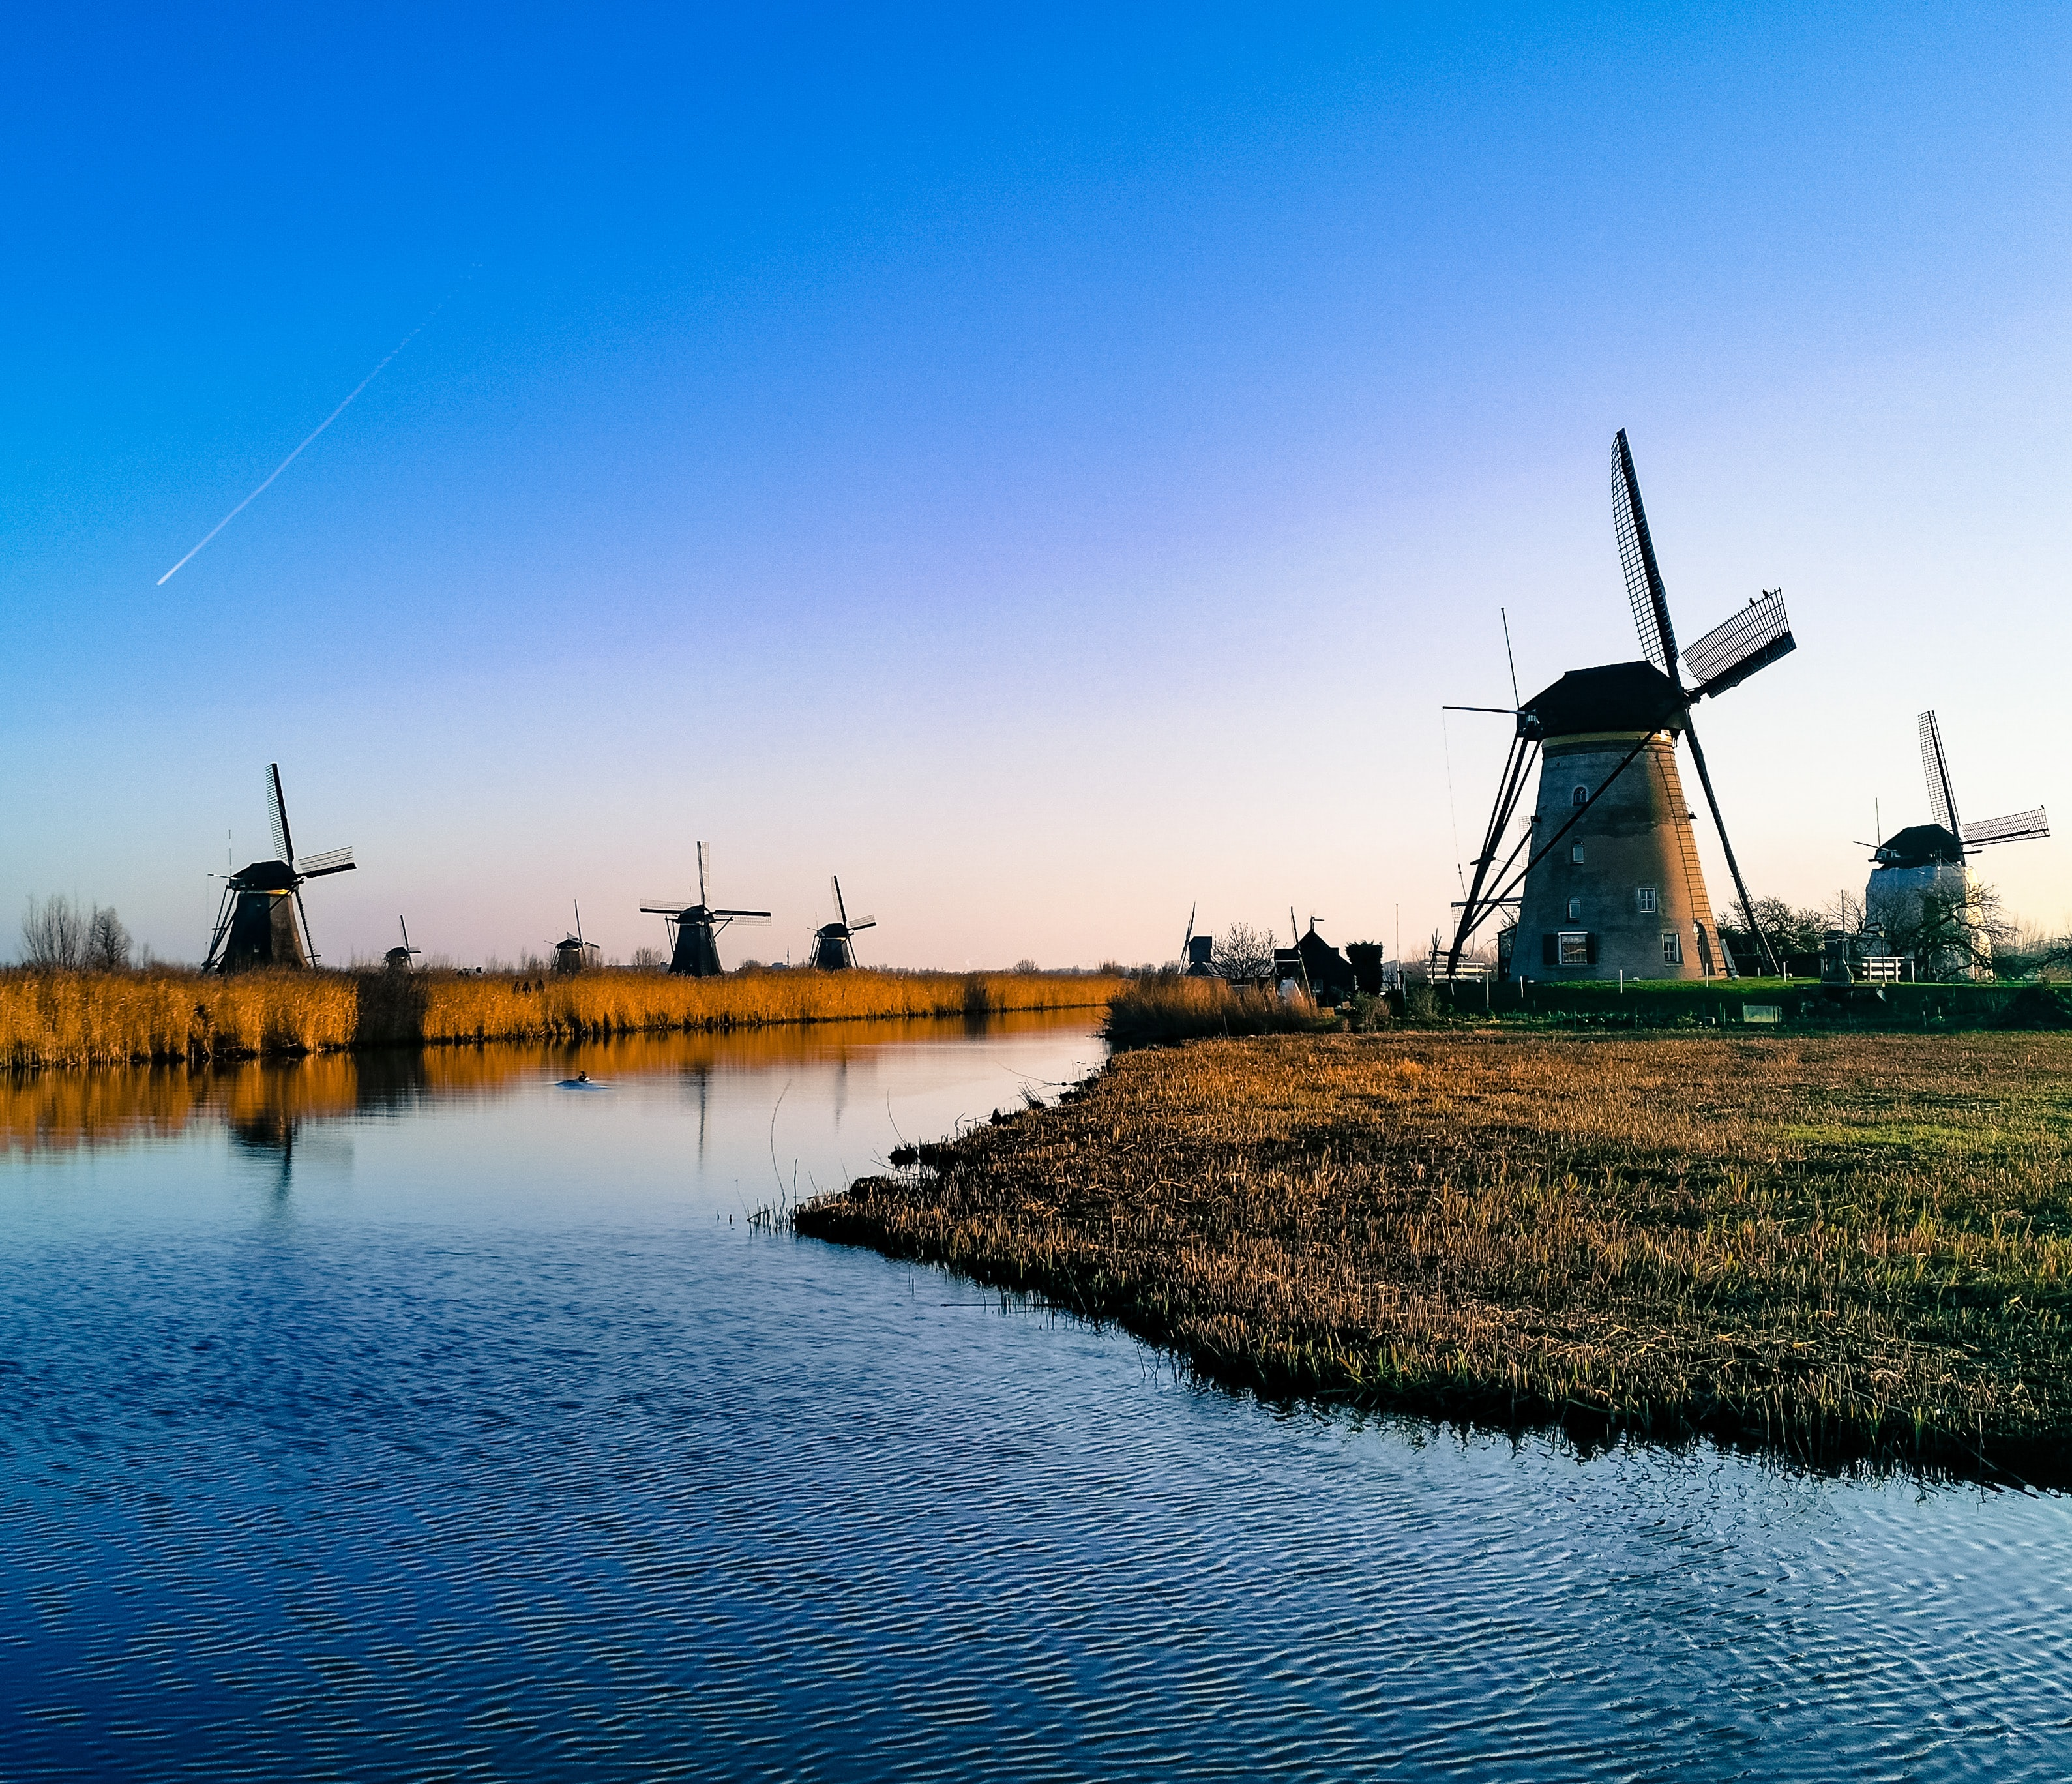working: (1528, 404, 1809, 892)
